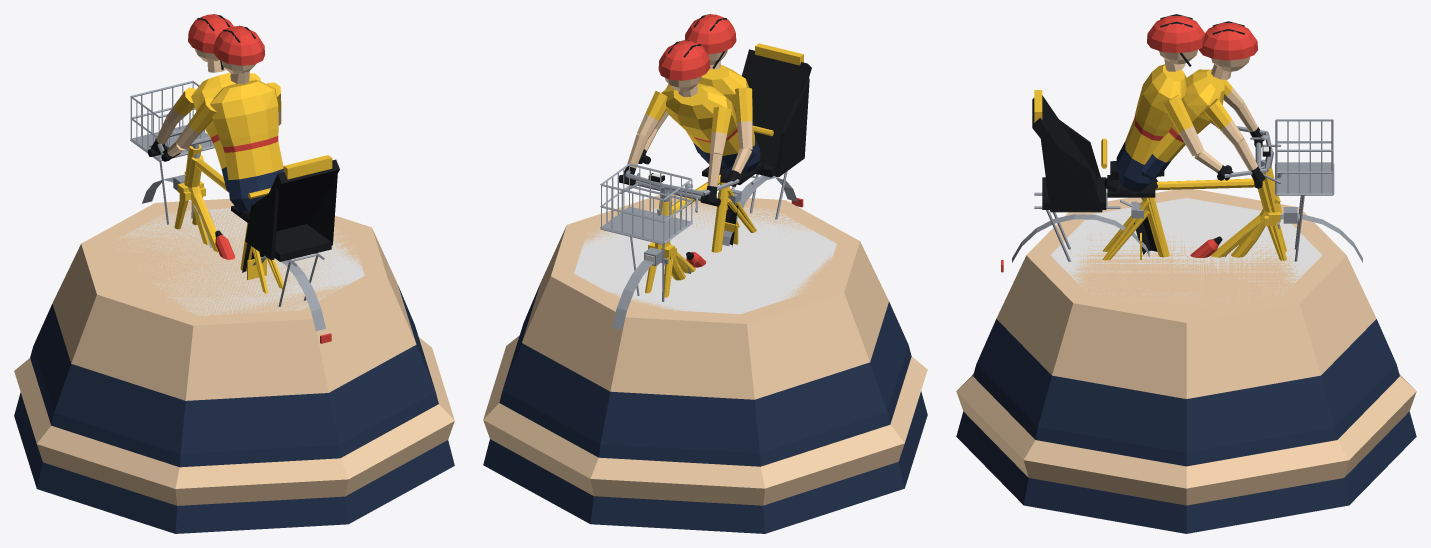
Rendered from bicycle.glb.
3 views of the same model, side by side, from view 1: azimuth 30°, elevation 25°; view 2: azimuth 150°, elevation 25°; view 3: azimuth 270°, elevation 25° (orthographic).
Parts seen in each view (by area): view 1: BK_Thigh, BK_Shin, BK_RiderUp, BK_FrameEbike, BK_FrameCity, BK_Rider, BK_Frame; view 2: BK_Thigh, BK_Shin, BK_FrameCity, BK_Rider, BK_FrameEbike, BK_RiderUp, BK_Frame; view 3: BK_Thigh, BK_Shin, BK_FrameCity, BK_RiderUp, BK_Rider, BK_FrameEbike, BK_Frame.
Part boxes in pixels (bbox=[...]): BK_Thigh: bbox=[14, 198, 454, 533]; BK_Shin: bbox=[14, 208, 454, 505]; BK_RiderUp: bbox=[162, 25, 283, 211]; BK_FrameEbike: bbox=[242, 155, 339, 279]; BK_FrameCity: bbox=[130, 80, 331, 343]; BK_Rider: bbox=[151, 14, 260, 192]; BK_Frame: bbox=[147, 136, 285, 293]; BK_Thigh: bbox=[483, 194, 927, 533]; BK_Shin: bbox=[483, 203, 927, 505]; BK_FrameCity: bbox=[600, 154, 803, 329]; BK_Rider: bbox=[621, 40, 755, 201]; BK_FrameEbike: bbox=[648, 43, 811, 246]; BK_RiderUp: bbox=[638, 14, 760, 186]; BK_Frame: bbox=[619, 164, 756, 296]; BK_Thigh: bbox=[956, 189, 1416, 533]; BK_Shin: bbox=[956, 197, 1416, 505]; BK_FrameCity: bbox=[1001, 119, 1362, 272]; BK_RiderUp: bbox=[1116, 14, 1233, 191]; BK_Rider: bbox=[1141, 21, 1265, 181]; BK_FrameEbike: bbox=[1032, 90, 1270, 259]; BK_Frame: bbox=[1102, 139, 1282, 260].
Size of the model in its own units: 2.3 by 2.31 by 2.3.
